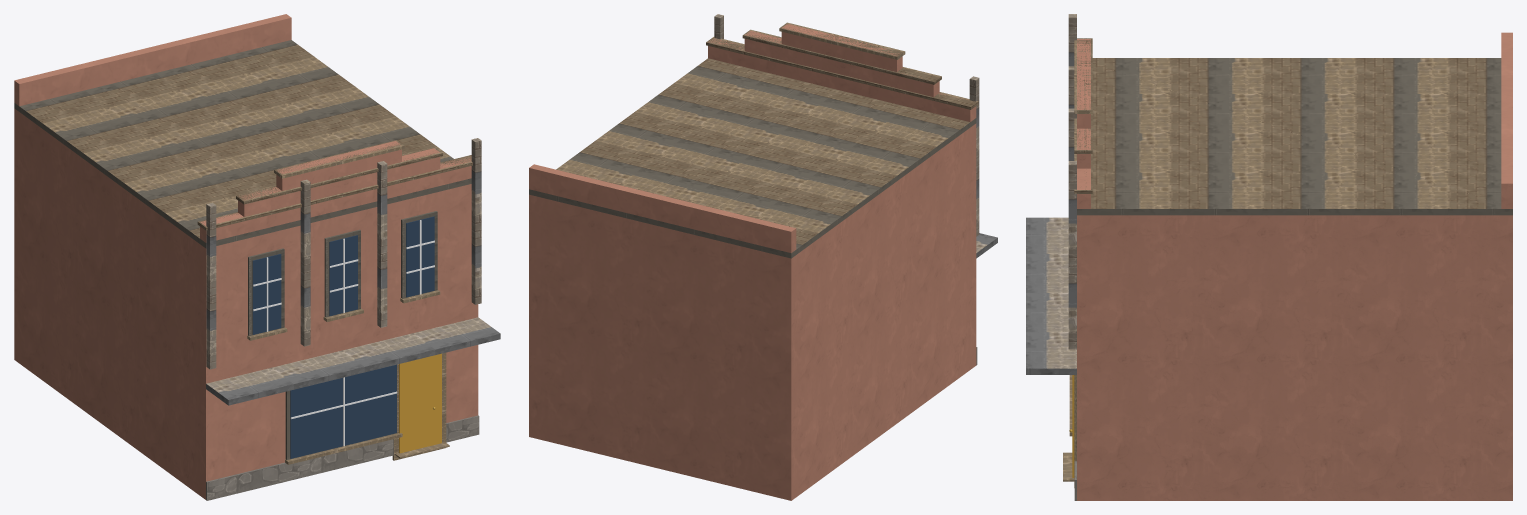
Rendered from artdeco_w8_1.gltf.
The picture shows the model from 3 angles, left to right: view 1: azimuth 30°, elevation 25°; view 2: azimuth 150°, elevation 25°; view 3: azimuth 270°, elevation 25°; orthographic projection. The views are drawn at different scales.
Visible parts, largest first — view 1: artdeco_w8_1; view 2: artdeco_w8_1; view 3: artdeco_w8_1.
Boxes of the visible parts, <box> form: artdeco_w8_1: <box>14,14,500,500</box>; artdeco_w8_1: <box>529,14,997,500</box>; artdeco_w8_1: <box>1026,14,1512,500</box>.
Size of what is drawn, in the model's own units: 7.78 by 8.44 by 10.5.
Materials: 6 (3 with a texture image).
